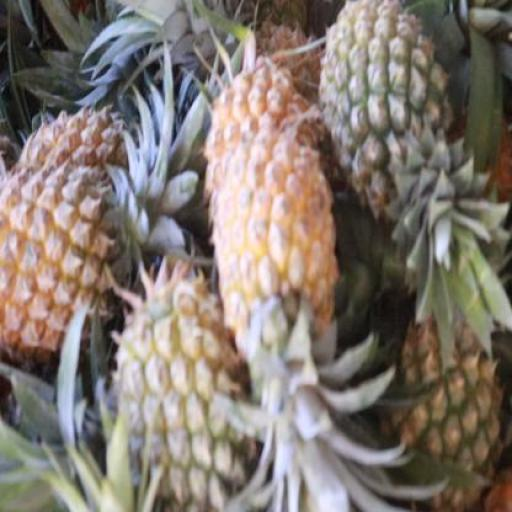------------------------------: (109, 277, 252, 498), (320, 0, 448, 198)
Pineapple - v8 v1: (214, 135, 326, 378), (0, 162, 113, 354)
